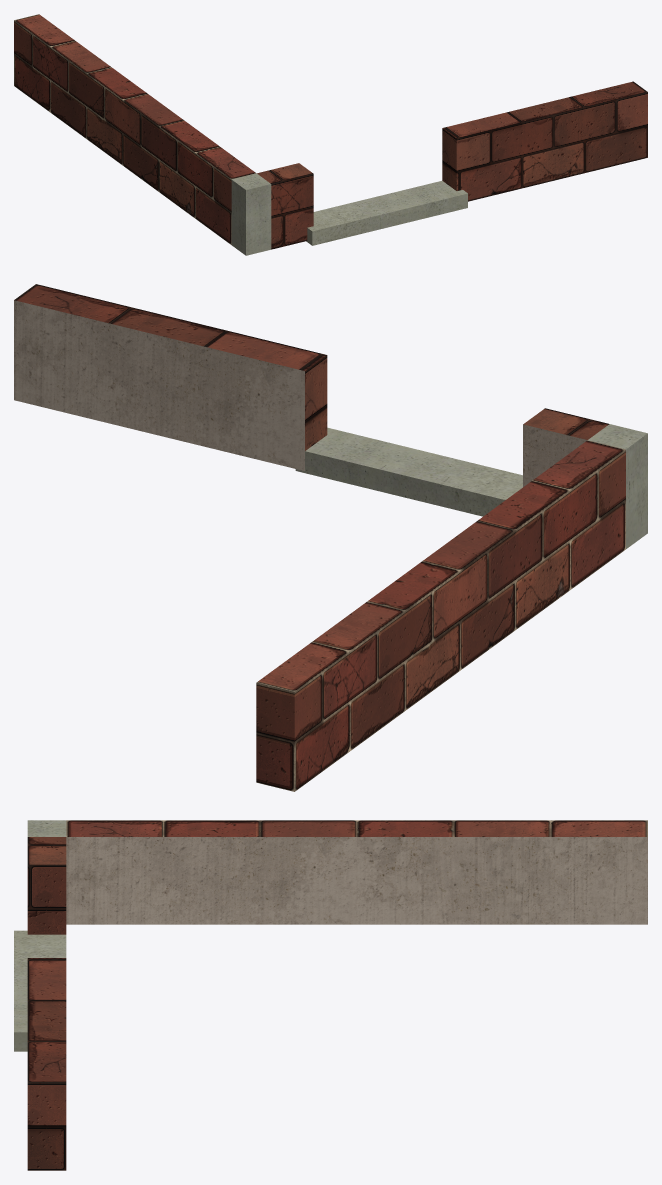
The model's file is roof04_cornerGap01.fbx.
3 views of the same model, one above another, from view 1: azimuth 30°, elevation 25°; view 2: azimuth 150°, elevation 25°; view 3: azimuth 270°, elevation 25° (orthographic). The views are drawn at different scales.
Parts seen in each view (by area): view 1: roof04_cornerGap01; view 2: roof04_cornerGap01; view 3: roof04_cornerGap01.
Part boxes in pixels (<box>): roof04_cornerGap01: <box>14,14,647,255</box>; roof04_cornerGap01: <box>14,284,647,791</box>; roof04_cornerGap01: <box>14,820,647,1170</box>.
Size of the model in its own units: 320 by 51 by 327.
